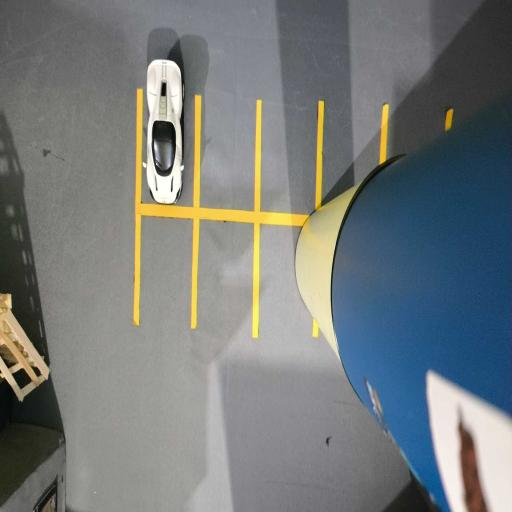toy_car: (0, 0, 510, 511), (145, 60, 184, 203)
